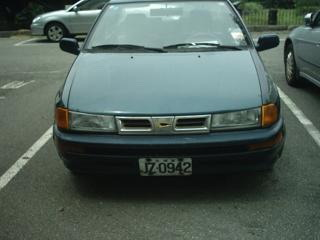plate: (137, 153, 194, 179)
